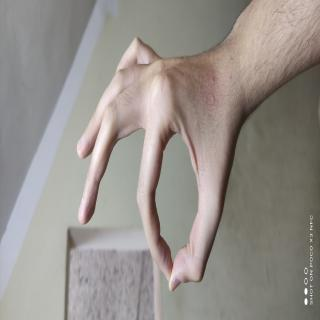Space: (14, 160, 128, 320)
